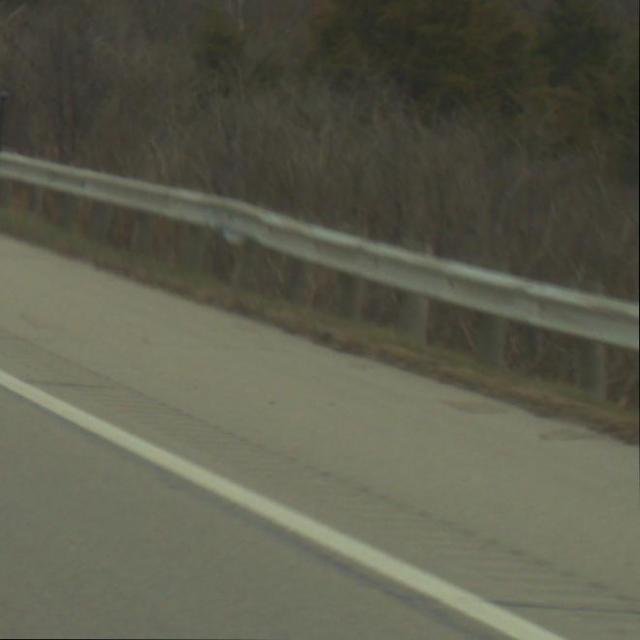Guard rail: (1, 140, 638, 411)
